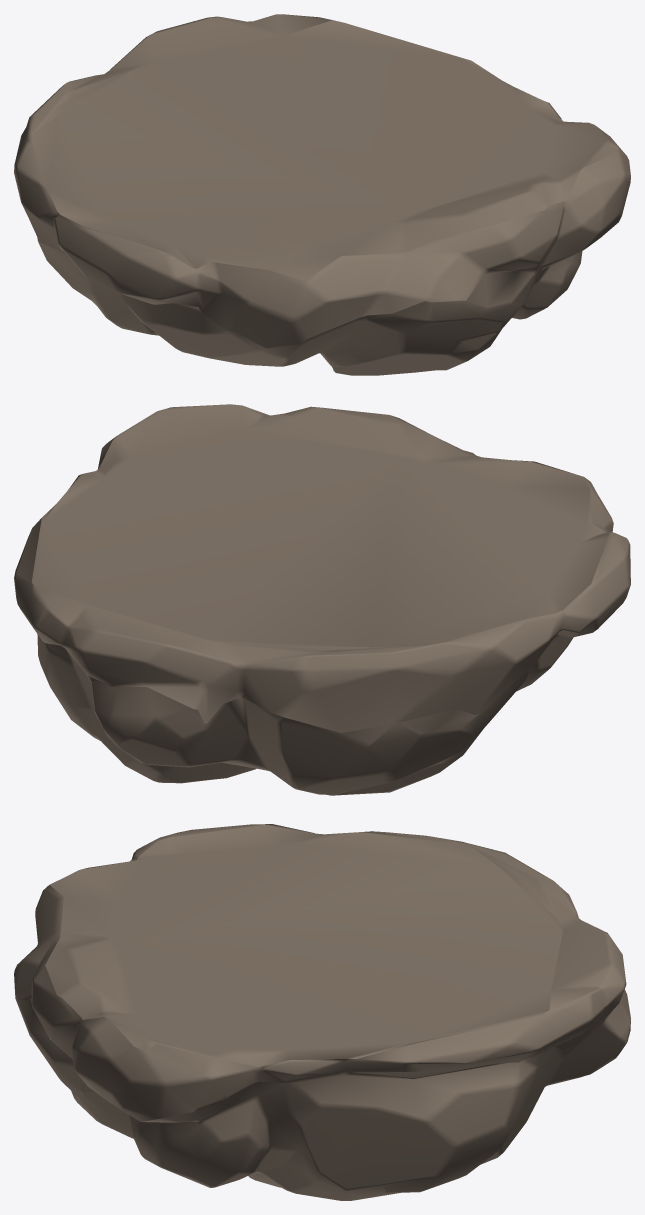
The model's file is IlhaPP1.fbx.
3 views of the same model, one above another, from view 1: azimuth 30°, elevation 25°; view 2: azimuth 150°, elevation 25°; view 3: azimuth 270°, elevation 25° (orthographic). The views are drawn at different scales.
Parts seen in each view (by area): view 1: IlhaPP1topo, IlhaPP1Borda, IlhaPP1; view 2: IlhaPP1topo, IlhaPP1Borda, IlhaPP1; view 3: IlhaPP1topo, IlhaPP1, IlhaPP1Borda.
Boxes of the visible parts, box(x1,y1,x2,y2) form: IlhaPP1topo: box(31, 20, 617, 280); IlhaPP1Borda: box(14, 14, 630, 348); IlhaPP1: box(37, 237, 584, 375); IlhaPP1topo: box(31, 404, 609, 647); IlhaPP1Borda: box(14, 415, 630, 732); IlhaPP1: box(37, 634, 573, 795); IlhaPP1topo: box(45, 824, 562, 1066); IlhaPP1: box(14, 976, 630, 1200); IlhaPP1Borda: box(14, 824, 626, 1121).
Bounding box in the file's own units: 669 × 274 × 699.
